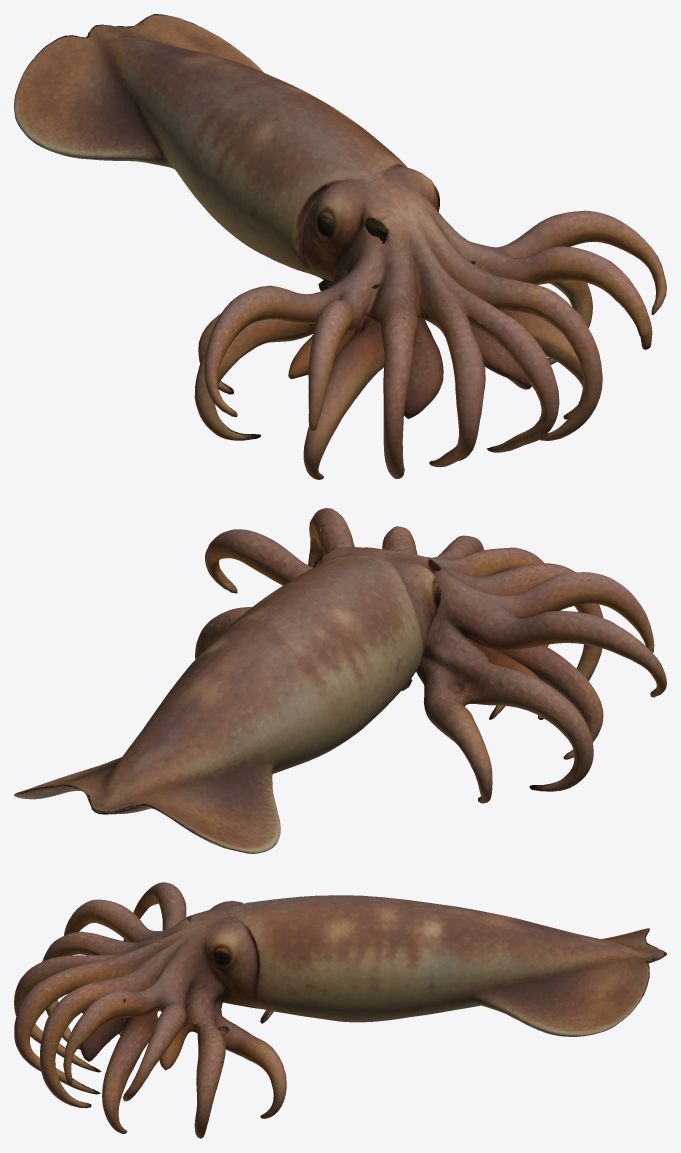
3 views of the same model, one above another, from view 1: azimuth 30°, elevation 25°; view 2: azimuth 150°, elevation 25°; view 3: azimuth 270°, elevation 25° (orthographic). The views are drawn at different scales.
Visible parts, largest first — view 1: world; view 2: world; view 3: world.
Boxes of the visible parts, left/top/right/bottom form: world: left=14, top=14, right=666, bottom=479; world: left=14, top=508, right=666, bottom=853; world: left=14, top=882, right=666, bottom=1138.
Bounding box in the file's own units: 0.1576 × 0.0789 × 0.25.
Materials: 1 (1 with a texture image).
